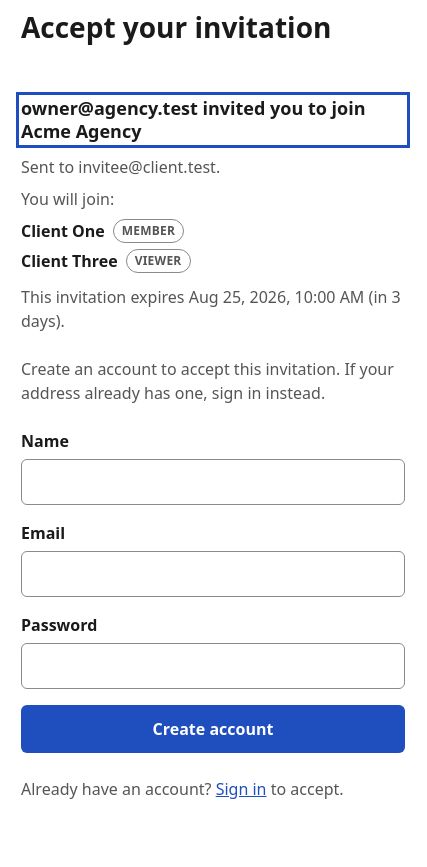
accept page: signed out → create an account with the token, or sign in (AC-1b-12) › a failed signup keeps the stored token and the form, so the visitor can retry or sign in
Step 1. Type "Ada Invitee" into the field labelled "Name" → (213,482), box [21, 459, 405, 505]
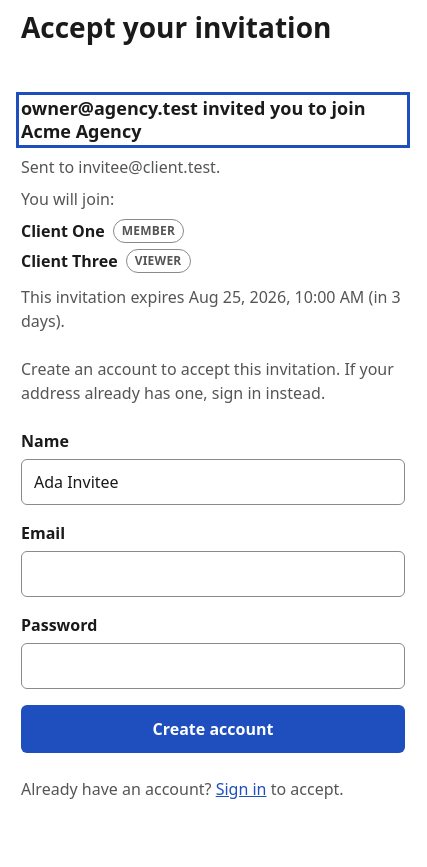
Step 2. Type "invitee@client.test" into the field labelled "Email" → (213,574), box [21, 551, 405, 597]
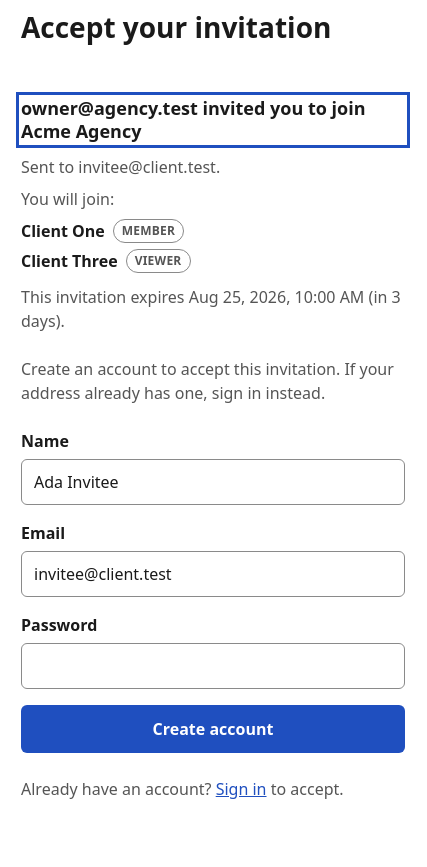
Step 3. Type "correct horse battery" into the password field labelled "Password" → (213,666), box [21, 643, 405, 689]
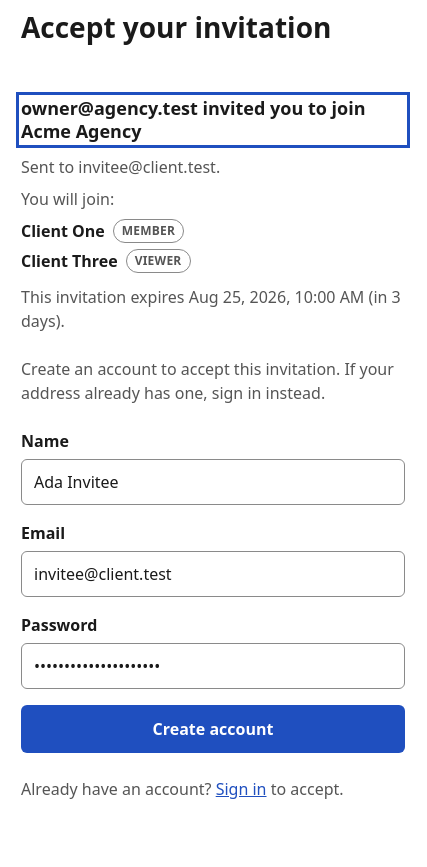
Step 4. Click the button "Create account" → (213,729), box [21, 705, 405, 753]
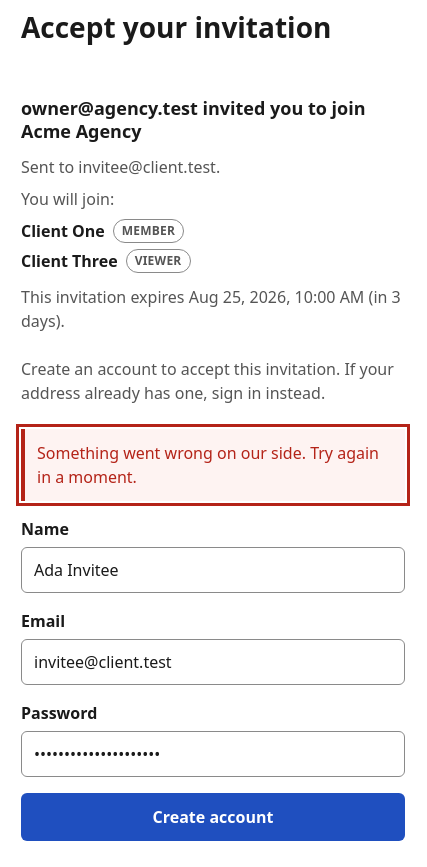
expect the message "Something went wrong on our side. Try again in a moment." is shown: met, box [21, 429, 405, 501]
